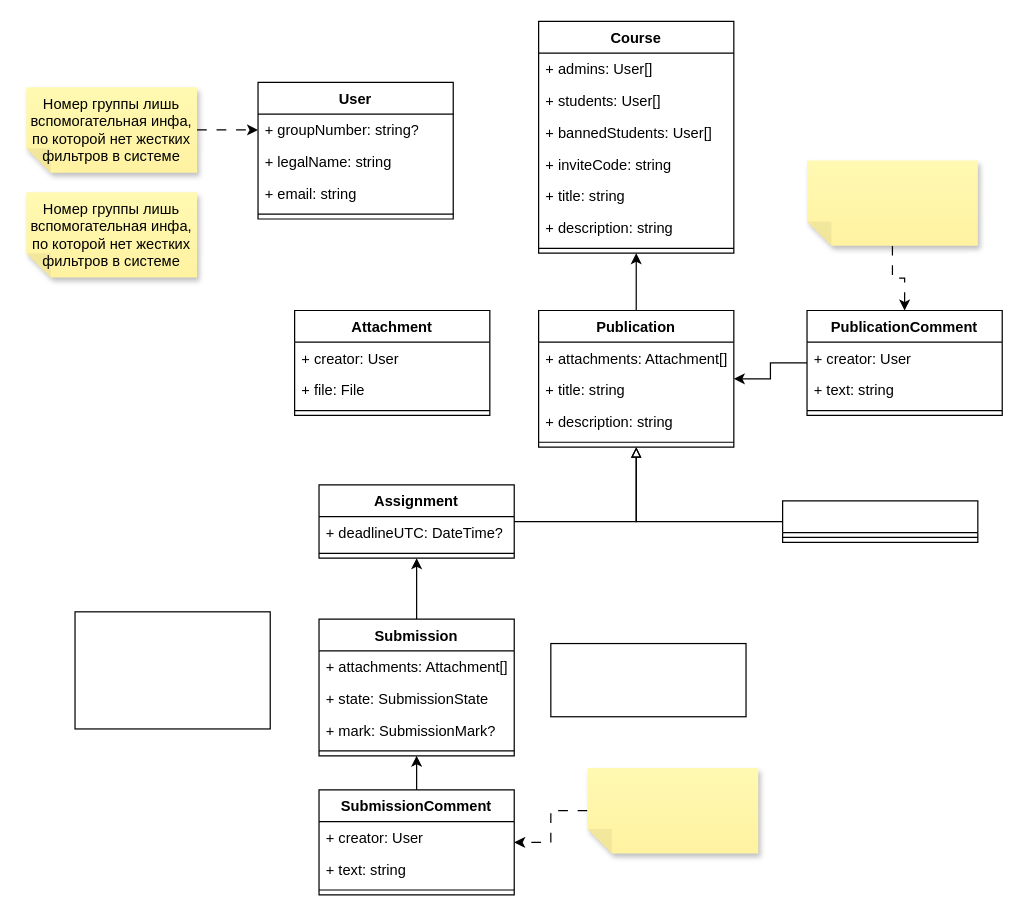
Image size: 1024x916. Some labels were removed from this diagram. Each missing label, with the centre of its shape:
"Anouncement" belongs at [879,521].
"SubmissionMark 1, 2, 3, 4, 5" belongs at [648,679].
"SubmissionState Draft Submitted Accepted Returned" belongs at [172,670].
"Видит только автор решения и админы курса" belongs at [673,811].
"Видят все кто участвует в курсе" belongs at [893,204].
